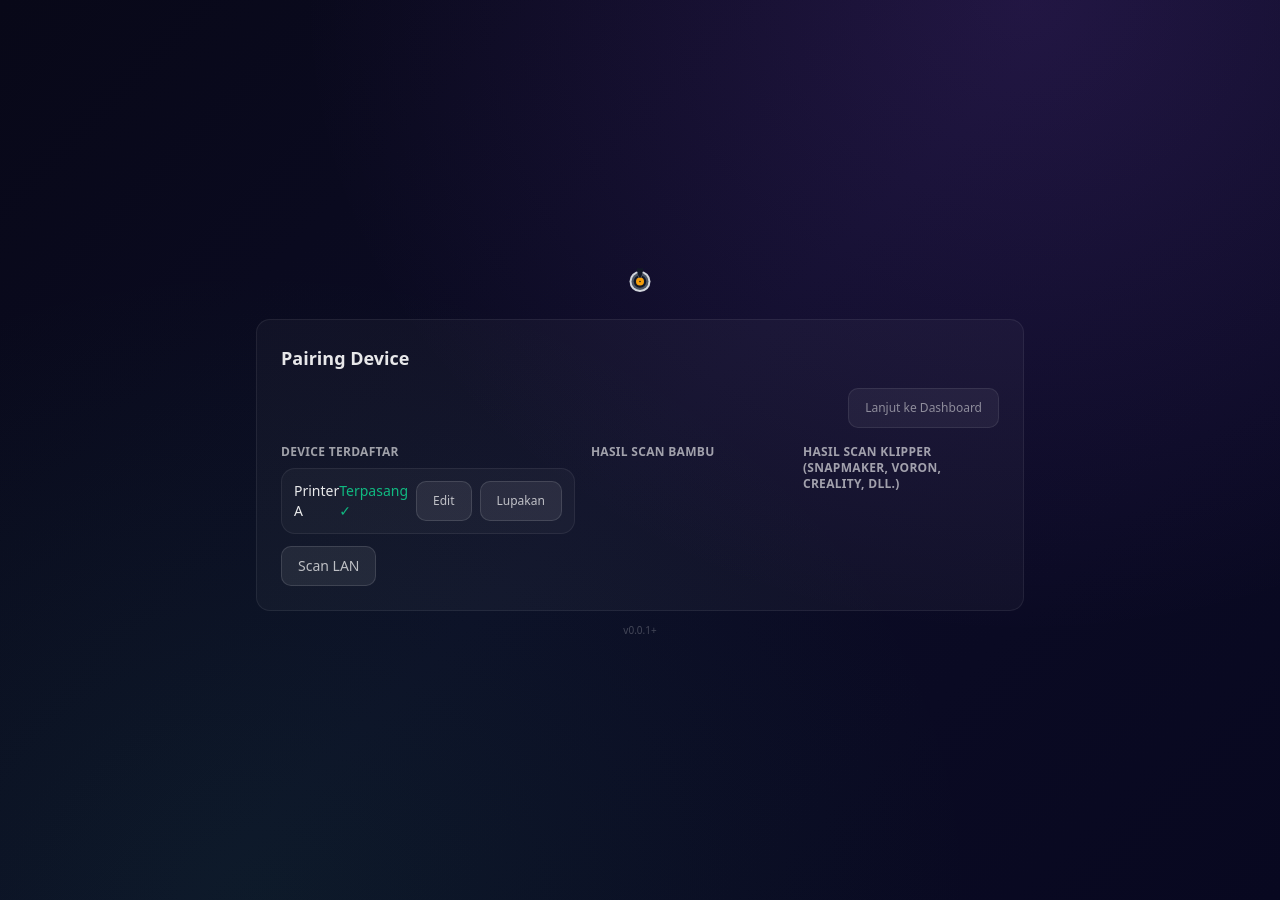
Test case: PairingScreen › device sudah Terpasang -> tombol Lupakan panggil forgetDevice, device balik status belum-dipasangkan (tombol Isi manual muncul lagi)
Check: the text "Terpasang ✓" is shown, box [339,480,408,520]
Click the button "Lupakan": (521, 500) [480,480,562,520]
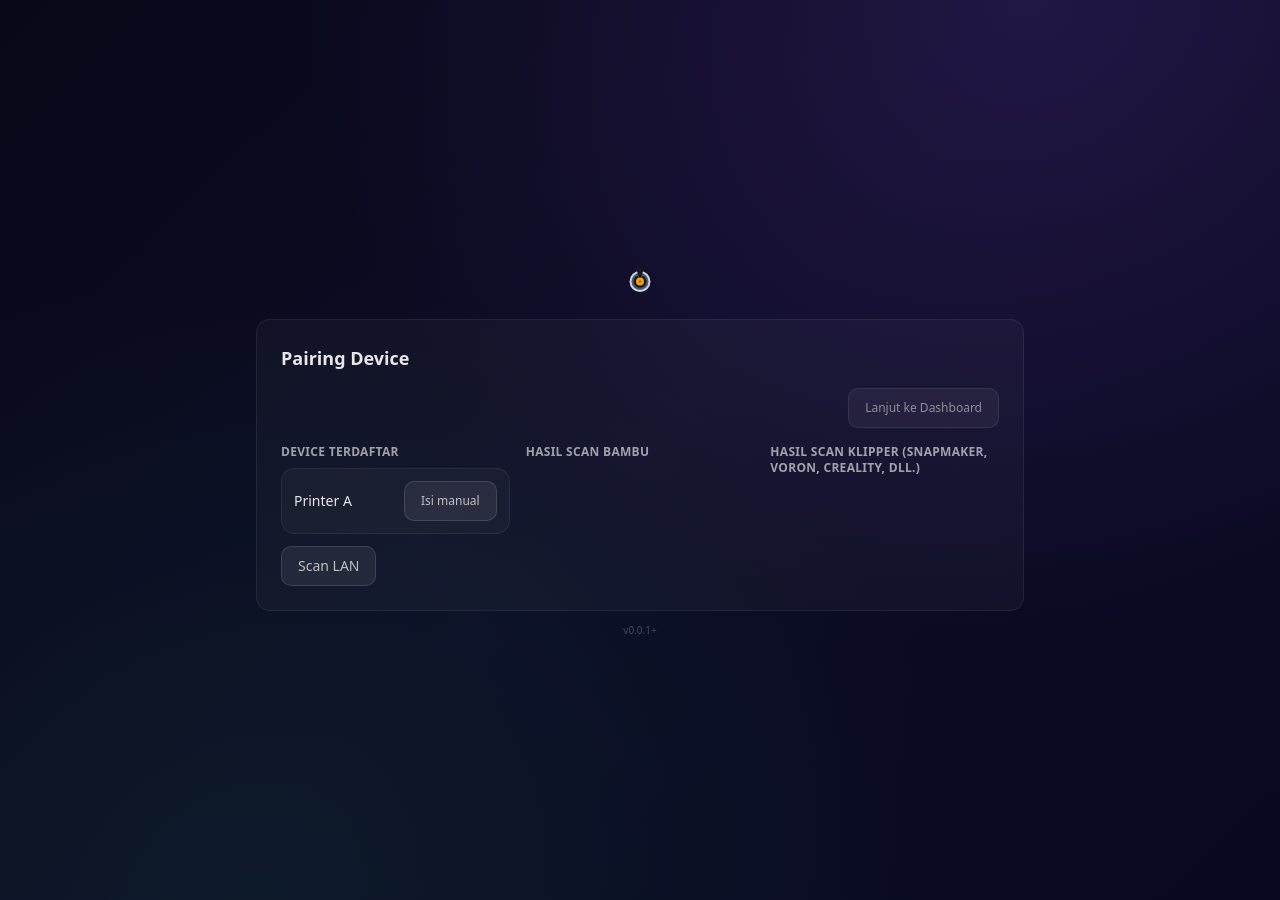
Check: the text "Terpasang" is gone
Check: the button "Isi manual" is shown, box [404,480,497,520]
